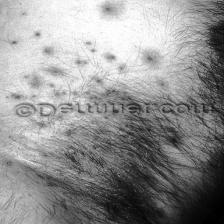Toxin: (46, 48, 160, 84), (98, 0, 123, 18), (6, 90, 40, 102)
